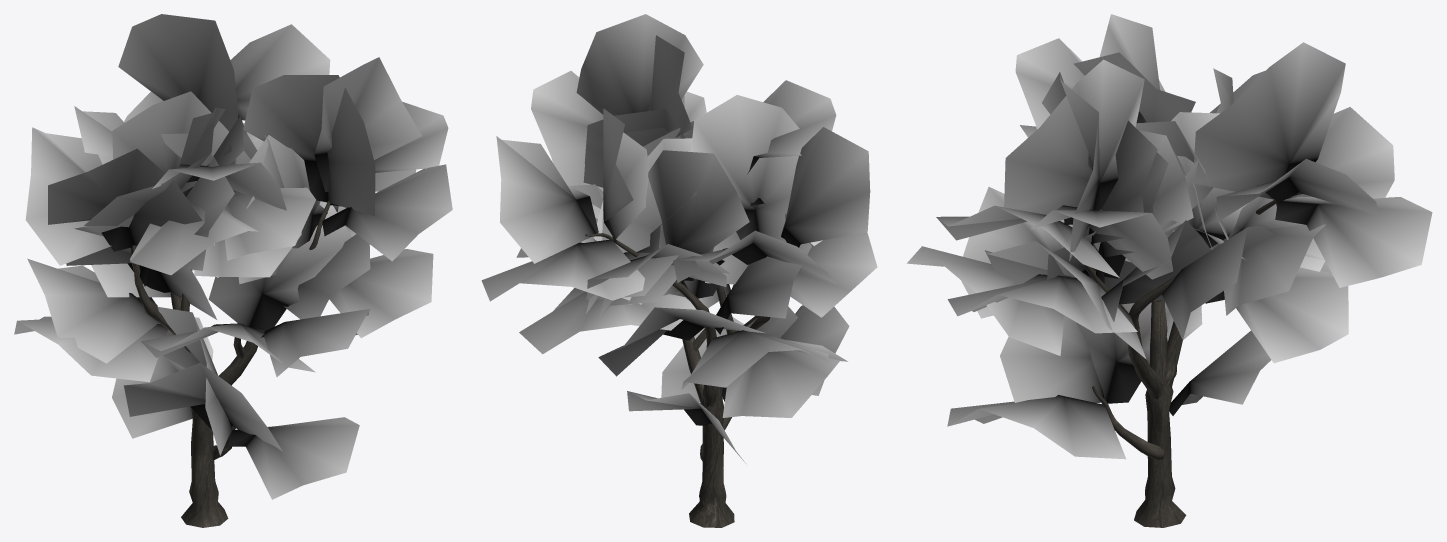
Rendered from tree3_afsTREE.fbx.
The picture shows the model from 3 angles, left to right: view 1: azimuth 30°, elevation 25°; view 2: azimuth 150°, elevation 25°; view 3: azimuth 270°, elevation 25°; orthographic projection. The views are drawn at different scales.
Visible parts, largest first — view 1: leaf_xt15_37, leaf_xt15_19, leaf_xt15_5, leaf_xt15, leaf_xt15_22, leaf_xt15_39, leaf_xt15_35, leaf_xt15_31, leaf_xt15_6, leaf_xt15_41, leaf_xt15_23, leaf_xt15_21 (+22 smaller); view 2: leaf_xt15_2, leaf_xt15_17, leaf_xt15_5, leaf_xt15_21, leaf_xt15_39, leaf_xt15_4, leaf_xt15_13, leaf_xt15_38, leaf_xt15_19, leaf_xt15_29, leaf_xt15_33, leaf_xt15 (+21 smaller); view 3: leaf_xt15_19, leaf_xt15_37, leaf_xt15_13, leaf_xt15_29, leaf_xt15_22, leaf_xt15_23, leaf_xt15_32, trunk_xw05, leaf_xt15_11, leaf_xt15_41, leaf_xt15_18, leaf_xt15_26 (+23 smaller).
Part boxes in pixels (x1,y1,x2,y2): leaf_xt15_37: (243,75,375,216); leaf_xt15_19: (118,14,238,131); leaf_xt15_5: (48,148,202,251); leaf_xt15: (27,258,158,363); leaf_xt15_22: (227,417,359,499); leaf_xt15_39: (314,57,421,191); leaf_xt15_35: (322,164,452,261); leaf_xt15_31: (208,201,351,330); leaf_xt15_6: (25,127,111,265); leaf_xt15_41: (329,249,433,338); leaf_xt15_23: (124,363,282,451); leaf_xt15_21: (112,91,250,192); leaf_xt15_2: (691,95,799,242); leaf_xt15_17: (496,136,598,263); leaf_xt15_5: (781,127,870,247); leaf_xt15_21: (648,150,749,280); leaf_xt15_39: (576,14,703,115); leaf_xt15_4: (722,340,847,417); leaf_xt15_13: (481,239,644,301); leaf_xt15_38: (531,71,603,218); leaf_xt15_19: (603,108,649,245); leaf_xt15_29: (519,288,695,354); leaf_xt15_33: (790,232,877,317); leaf_xt15: (681,330,828,389); leaf_xt15_19: (1193,42,1345,199); leaf_xt15_37: (1004,59,1144,214); leaf_xt15_13: (1275,196,1432,287); leaf_xt15_29: (1213,267,1348,363); leaf_xt15_22: (947,395,1125,459); leaf_xt15_23: (1000,316,1104,403); leaf_xt15_32: (907,246,1064,355); trunk_xw05: (1134,300,1186,527); leaf_xt15_11: (1276,107,1394,206); leaf_xt15_41: (947,274,1137,333); leaf_xt15_18: (1224,224,1325,315); leaf_xt15_26: (1162,225,1273,339).
Bounding box in the file's own units: 580 × 686 × 655.
